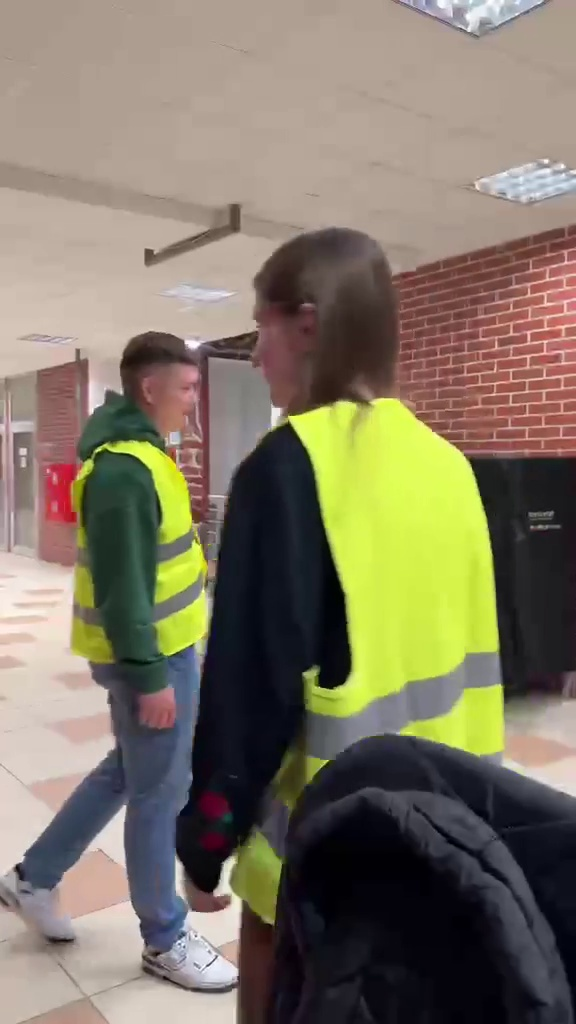vest: (204, 231, 525, 906), (27, 301, 232, 992)
